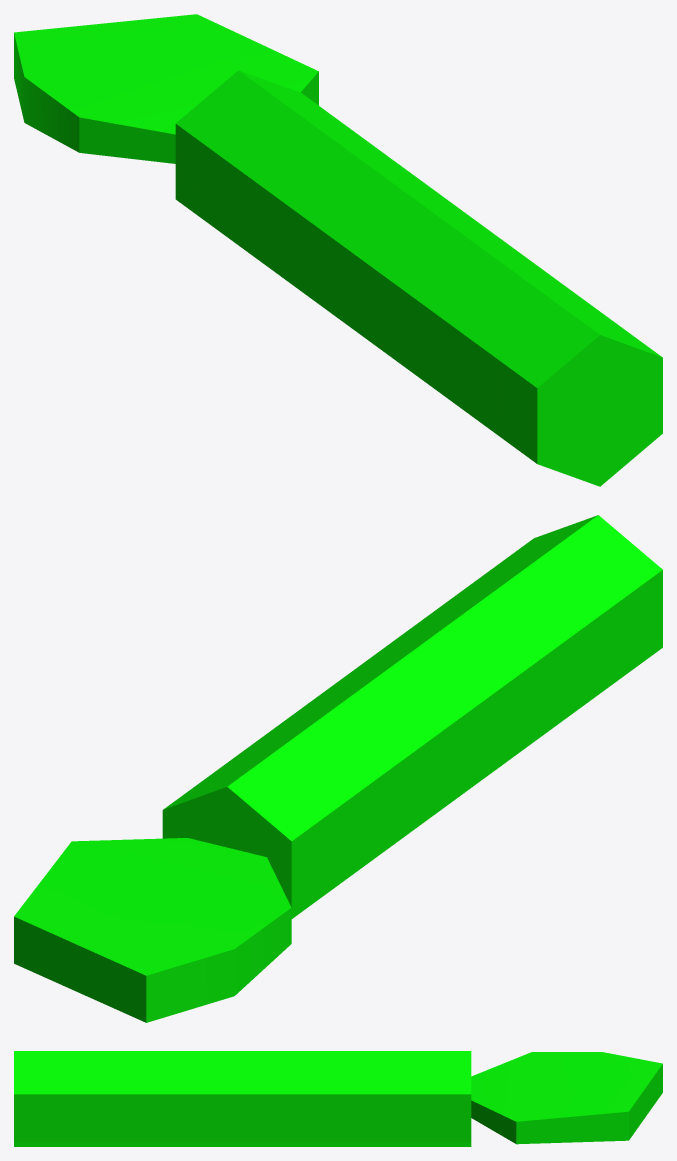
File: SM_KitchenTool_06_Collider.fbx
The picture shows the model from 3 angles, top to bottom: view 1: azimuth 30°, elevation 25°; view 2: azimuth 150°, elevation 25°; view 3: azimuth 270°, elevation 25°; orthographic projection. The views are drawn at different scales.
Visible parts, largest first — view 1: SM_KitchenTool_06_Collider; view 2: SM_KitchenTool_06_Collider; view 3: SM_KitchenTool_06_Collider.
Boxes of the visible parts, x1=… form: SM_KitchenTool_06_Collider: x1=14, y1=14, x2=662, y2=486; SM_KitchenTool_06_Collider: x1=14, y1=515, x2=662, y2=1022; SM_KitchenTool_06_Collider: x1=14, y1=1051, x2=662, y2=1146.
Size of the model in its own units: 8.09 by 5.18 by 31.71.
